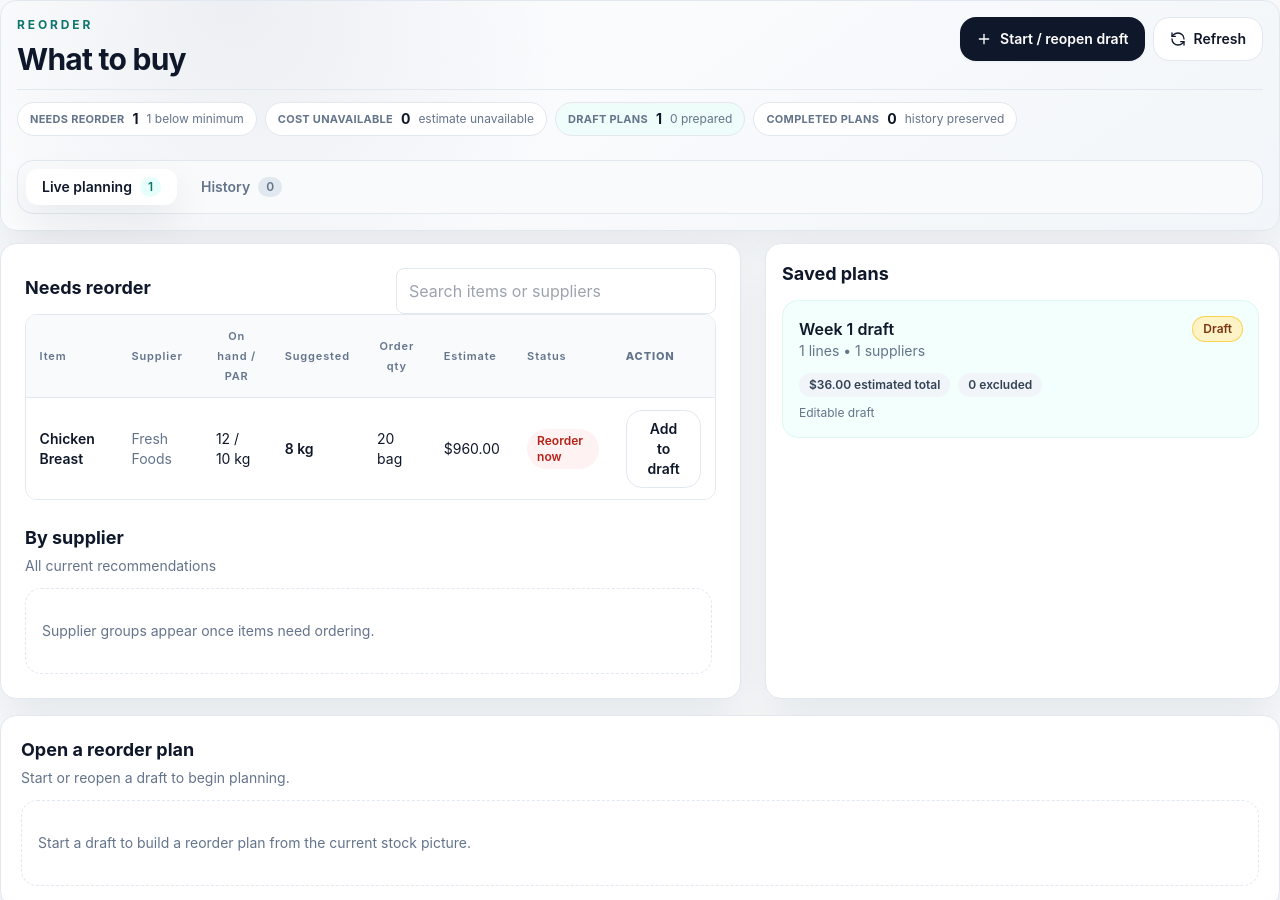
Test: PilotReorderPlanPage › requires manual review when the current recommendation price differs from the saved snapshot
Click the button "Week 1 draft" at (847, 329), box [782,300,1259,438]
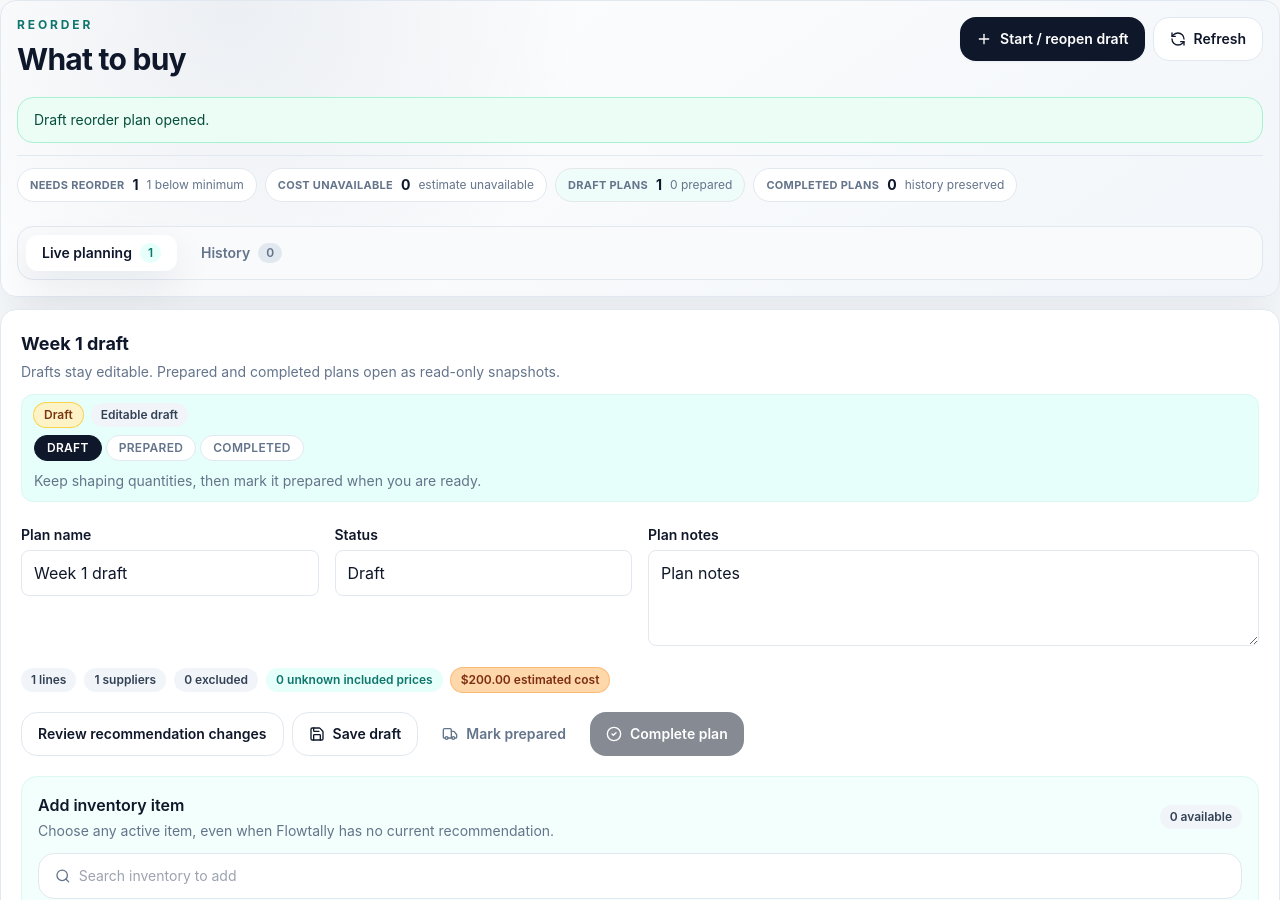
Now the text "Draft reorder plan opened." is shown, box [17,97,1263,143]
Click the button "Review recommendation changes" at (152, 734), box [21,712,284,756]
(page scrolled)
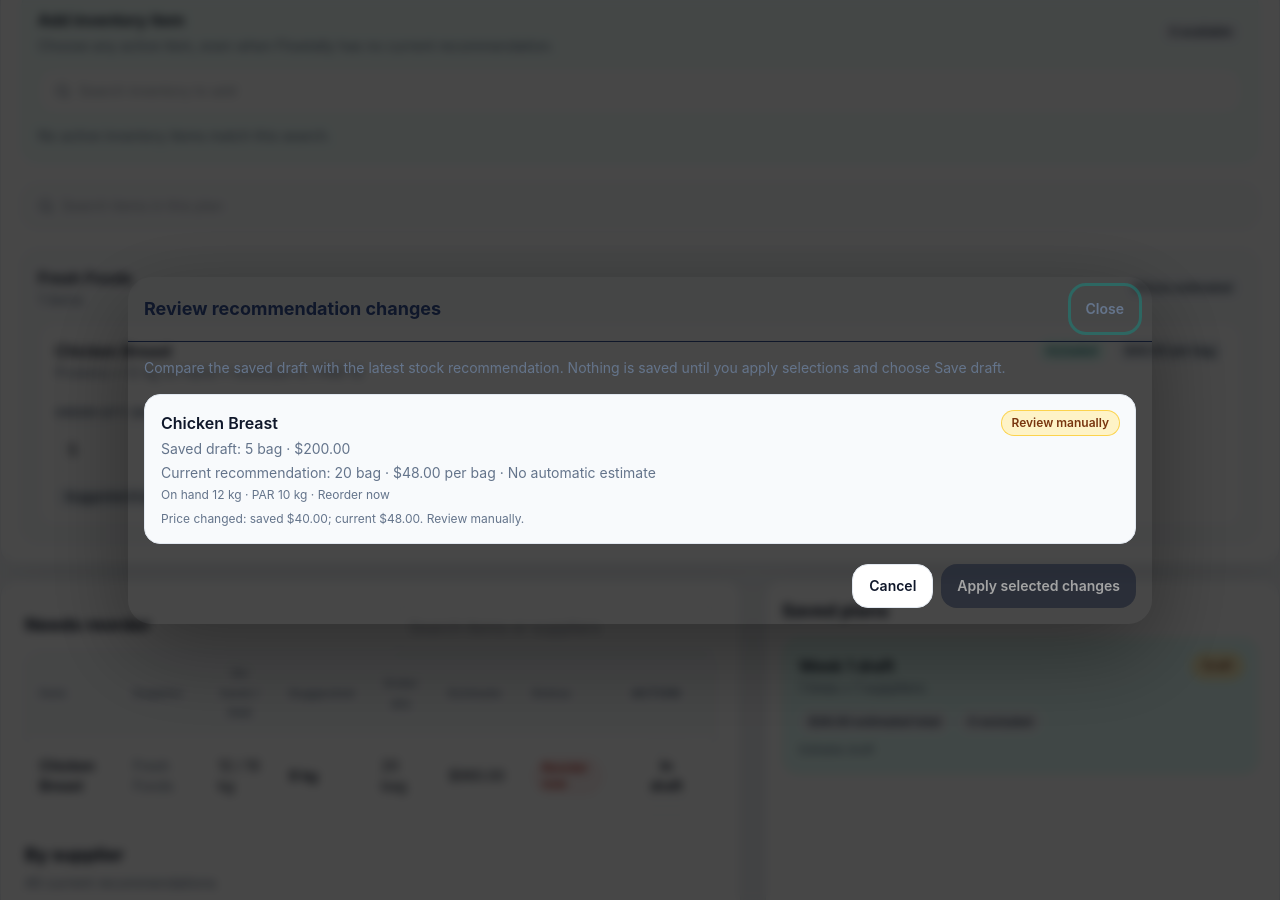
Now the number field showing "5" is shown, box [55,427,338,473]
Now the dialog "Review recommendation changes" shows "saved $40.00; current $48.00", box [161,510,524,526]
Now the text "Review manually" is shown, box [1002,410,1119,434]
